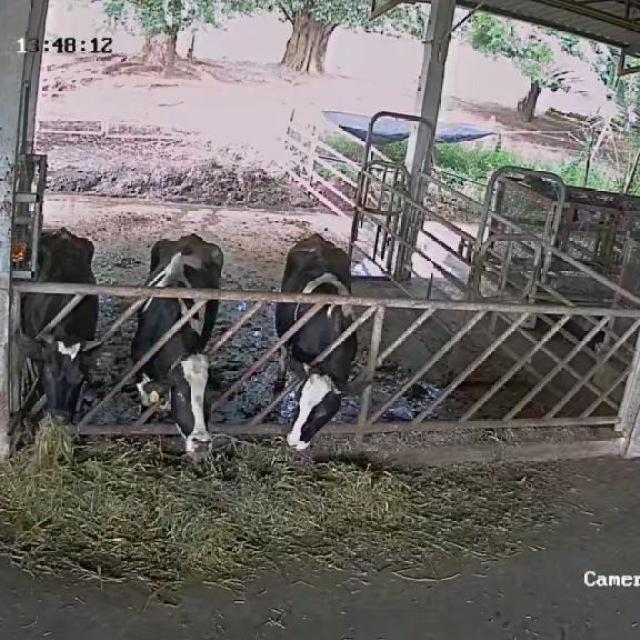feeding: (14, 216, 109, 474), (136, 231, 235, 476), (274, 235, 360, 457)
